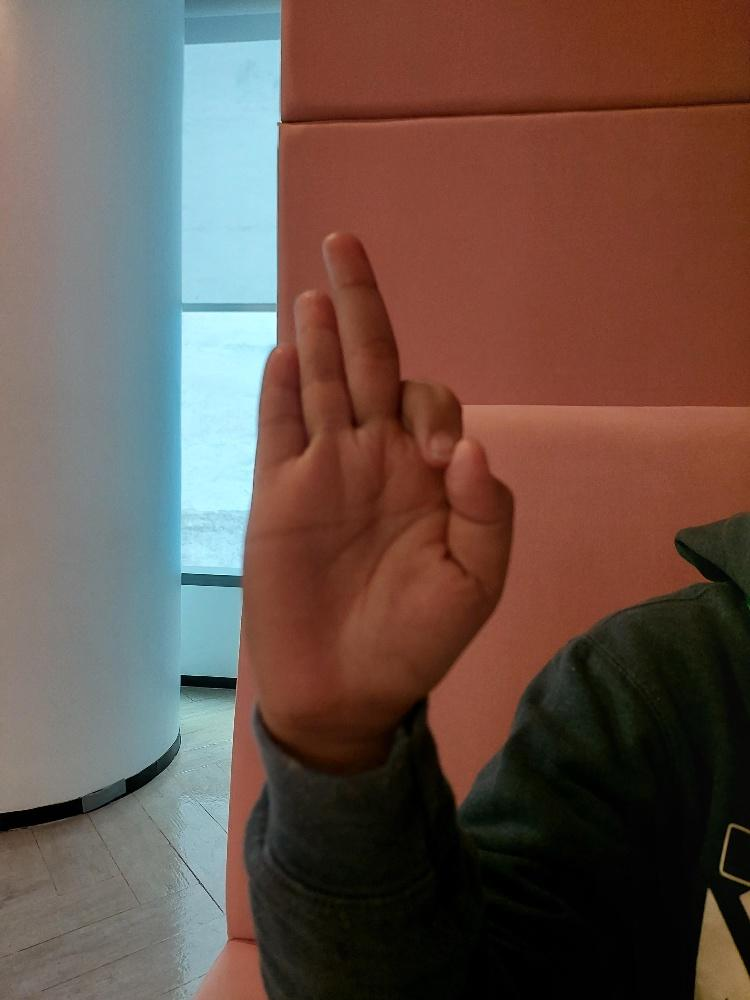f: (236, 220, 524, 744)
